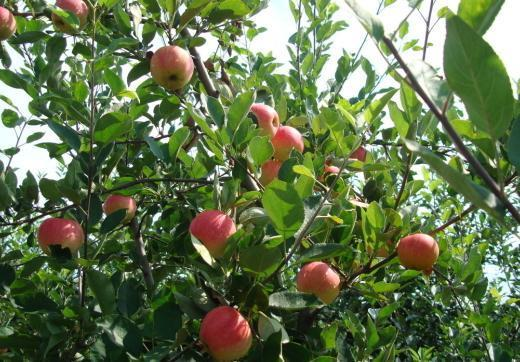apple: (199, 304, 251, 360), (189, 208, 236, 262), (149, 45, 195, 90), (298, 260, 343, 305), (38, 217, 84, 258), (397, 232, 439, 275), (271, 126, 304, 159), (101, 193, 136, 224), (51, 1, 88, 29), (250, 104, 277, 139)
